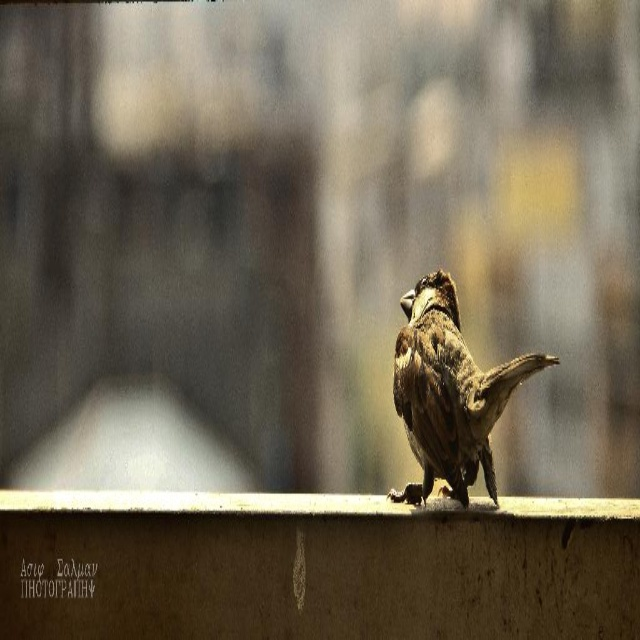Sparrow: (388, 271, 563, 510)
